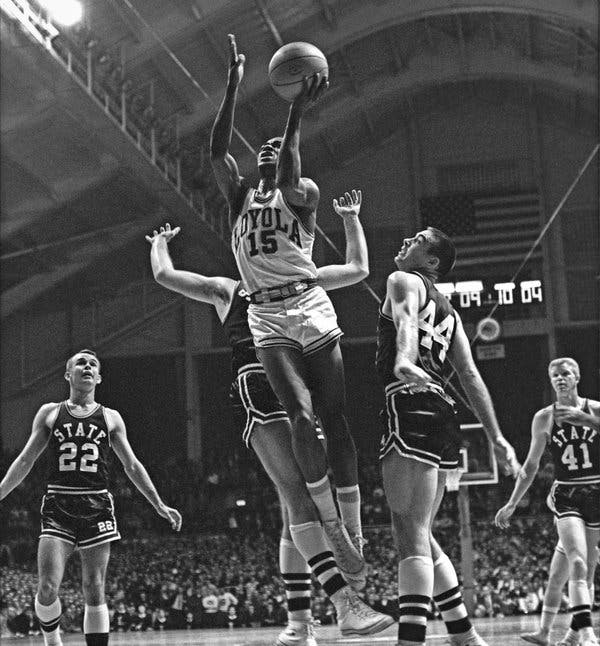shoot: (199, 22, 376, 582)
